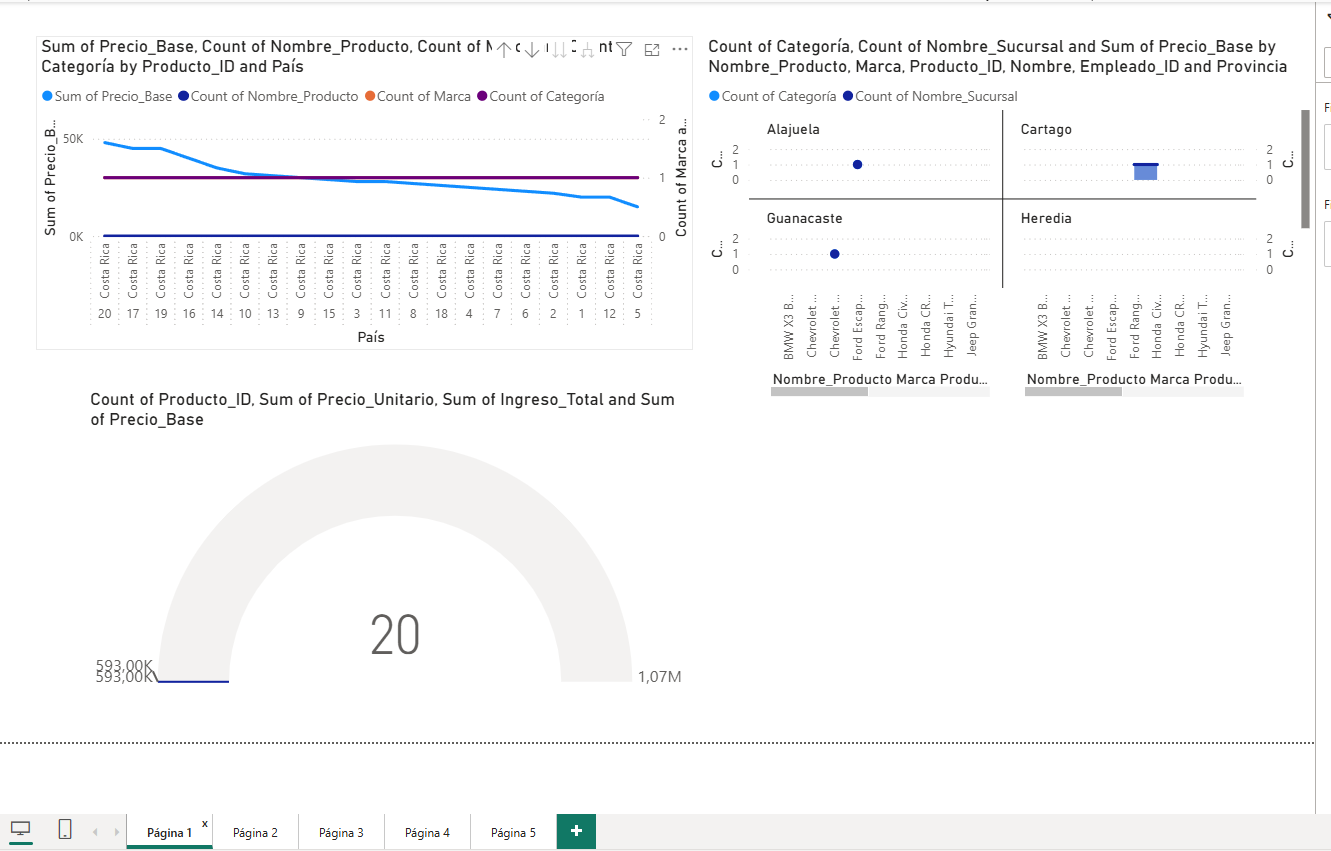

What the dashboard file says about the page in this screenshot:
{"tool":"powerbi","page":{"name":"Página 1","canvas":[1280,720],"ordinal":0},"visuals":[{"type":"lineChart","fields":{"Category":["Fact_Ventas.Producto_ID","Dim_Sucursal.País"],"Y":["Sum(Dim_Producto.Precio_Base)","CountNonNull(Dim_Producto.Nombre_Producto)"],"Y2":["CountNonNull(Dim_Producto.Marca)","CountNonNull(Dim_Producto.Categoría)"]},"box":[35.7,32.9,639.5,306],"z":1},{"type":"gauge","fields":{"Y":["CountNonNull(Dim_Producto.Producto_ID)"],"MinValue":["Sum(Fact_Ventas.Precio_Unitario)"],"MaxValue":["Sum(Fact_Ventas.Ingreso_Total)"],"TargetValue":["Sum(Dim_Producto.Precio_Base)"]},"box":[83.7,376,591.4,306],"z":2},{"type":"areaChart","fields":{"Rows":["Dim_Sucursal.Provincia"],"Category":["Dim_Producto.Nombre_Producto","Dim_Producto.Marca","Dim_Producto.Producto_ID","Dim_Cliente.Nombre","Fact_Ventas.Empleado_ID"],"Y":["CountNonNull(Dim_Producto.Categoría)"],"Y2":["CountNonNull(Dim_Sucursal.Nombre_Sucursal)"]},"box":[684.7,32.9,595.5,356.8],"z":3}]}

Visuals, with their boxes on the page's 1280x720 design canvas (x1, y1, x2, y2). These are canvas units, not pixel positions in the 1331x851 screenshot, which may show the page scaled, cropped or inside an application window:
lineChart - Fact_Ventas.Producto_ID x Dim_Sucursal.País: (36,33,675,339)
gauge - CountNonNull(Dim_Producto.Producto_ID) x Sum(Fact_Ventas.Precio_Unitario): (84,376,675,682)
areaChart - Dim_Sucursal.Provincia x Dim_Producto.Nombre_Producto: (685,33,1280,390)
